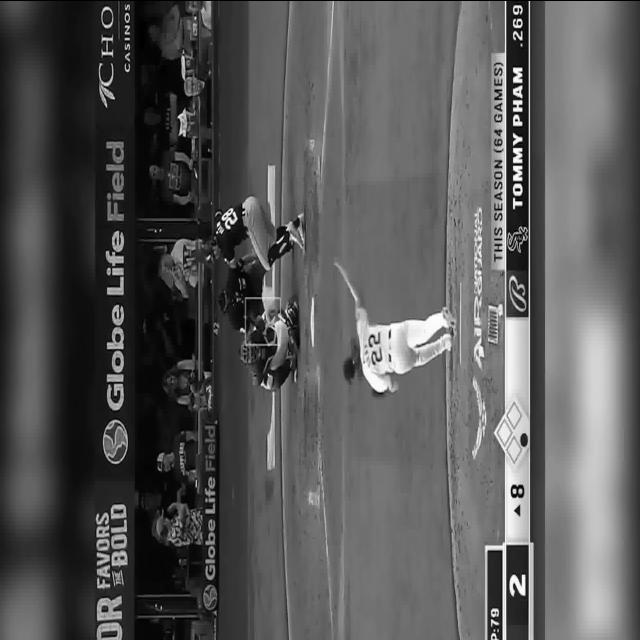shoe: (286, 221, 303, 249), (295, 211, 305, 249), (442, 306, 456, 331), (288, 326, 299, 352), (289, 356, 297, 382), (443, 333, 453, 352)
